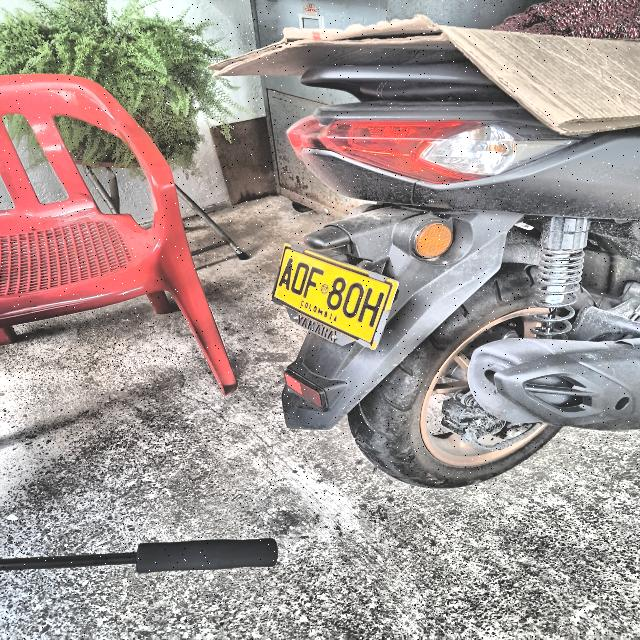0: (338, 280, 368, 322)
8: (322, 274, 351, 314)
A: (278, 256, 297, 292)
F: (302, 265, 326, 302)
H: (355, 286, 387, 330)
O: (290, 260, 311, 297)
